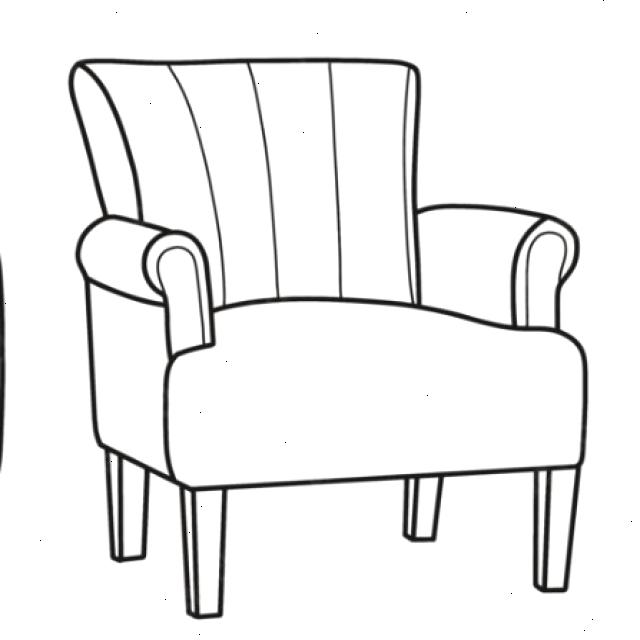Backrest: (66, 55, 425, 318)
Leg_Structure: (103, 441, 585, 623)
Seat: (160, 294, 591, 491)
sofa_armrest: (75, 214, 216, 486), (413, 204, 584, 330)
